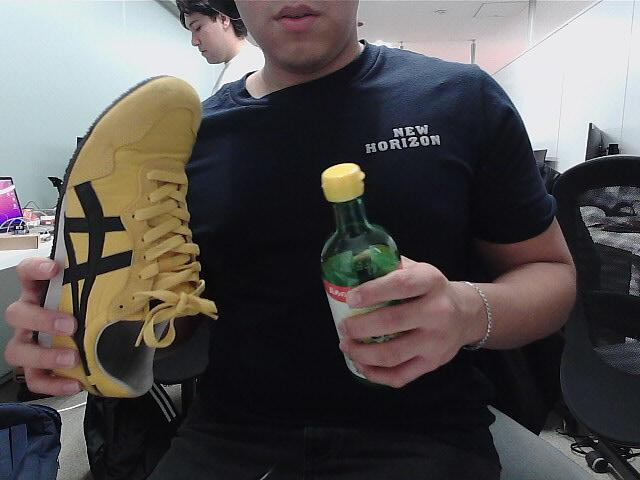Lemon_sapporo: (318, 161, 429, 391)
Shoes: (42, 76, 206, 400)
